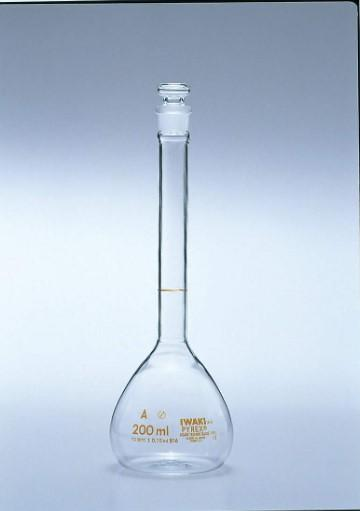Volumetric flask: (115, 80, 240, 475)
